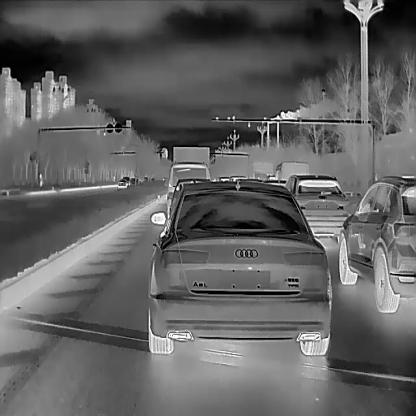car: (147, 181, 331, 355), (338, 175, 416, 310), (283, 174, 349, 240), (168, 161, 209, 218), (276, 160, 306, 192), (118, 178, 127, 188)
truck: (248, 159, 272, 188)
